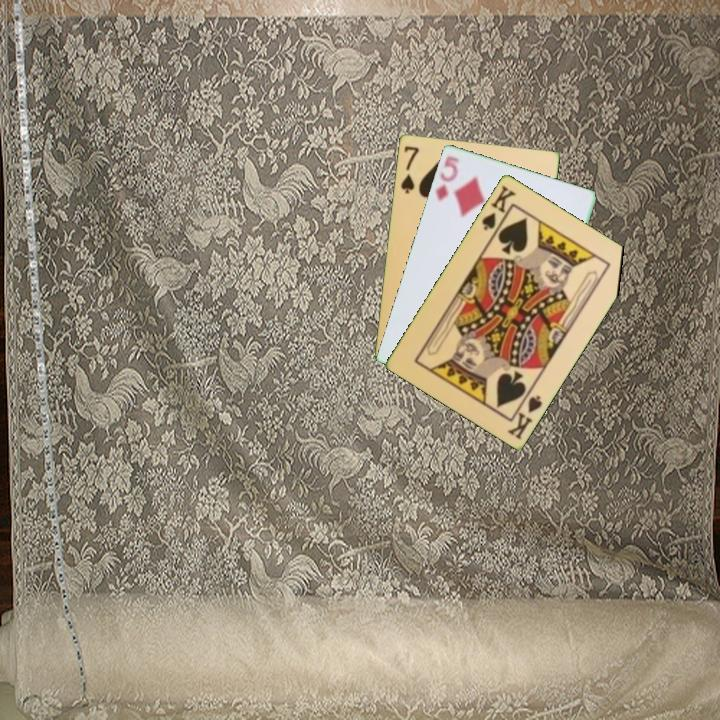5d: (431, 152, 462, 203)
7s: (397, 142, 422, 196)
Ks: (478, 181, 519, 237), (504, 386, 545, 442)
